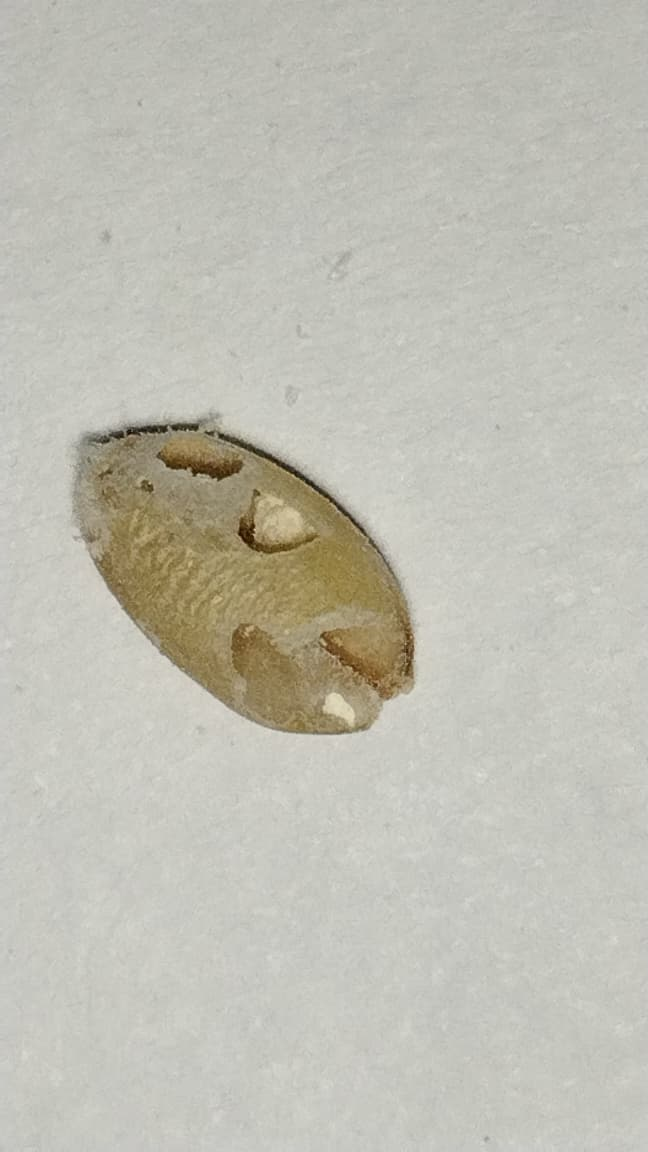damage: (75, 428, 409, 733)
insectdamage: (156, 421, 334, 568), (228, 600, 414, 733)
